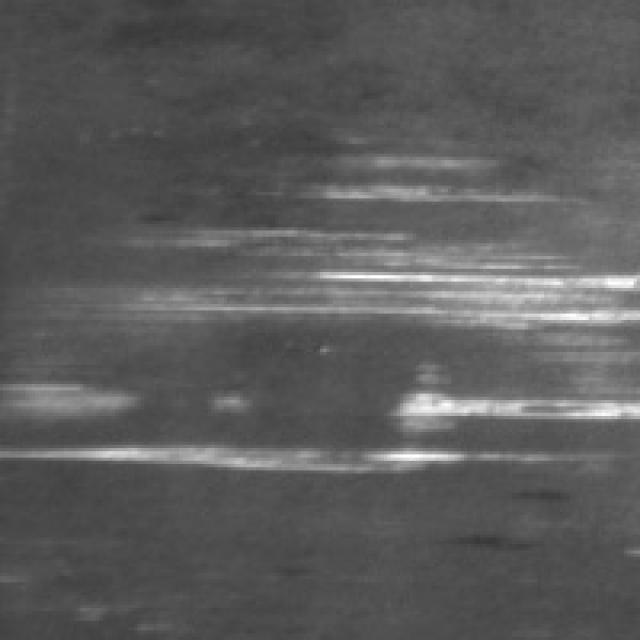scratches: (0, 368, 630, 467), (106, 224, 636, 330), (278, 131, 566, 208)
